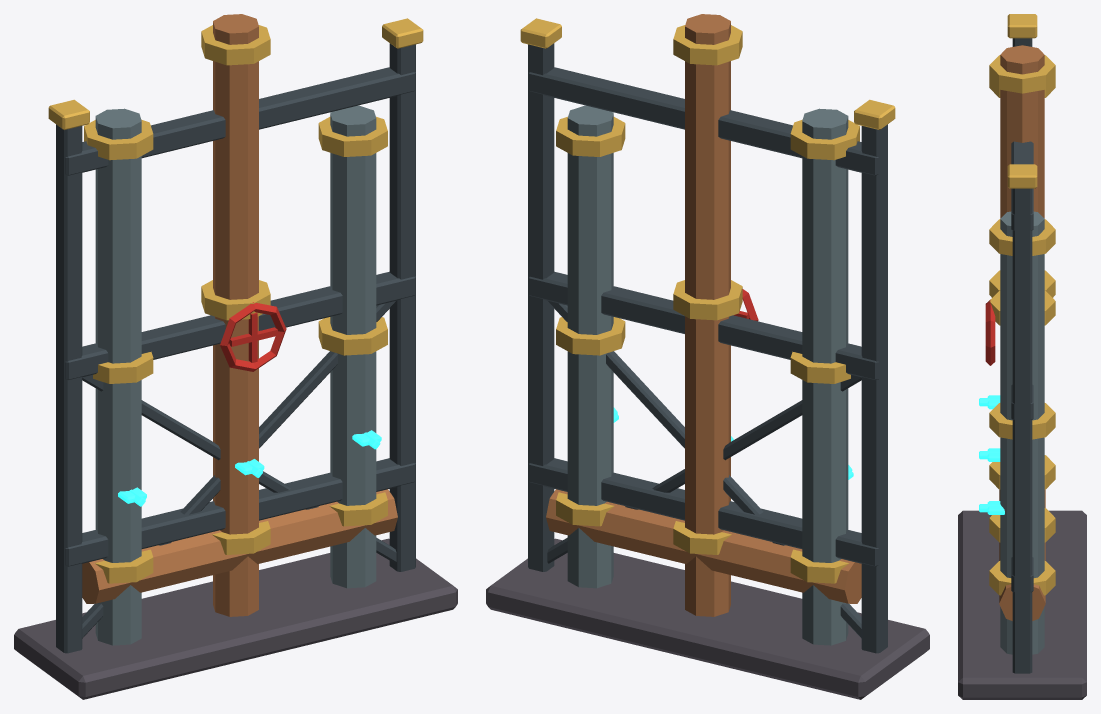
Rendered from rune_pipe_rack.glb.
The picture shows the model from 3 angles, left to right: view 1: azimuth 30°, elevation 25°; view 2: azimuth 150°, elevation 25°; view 3: azimuth 270°, elevation 25°; orthographic projection. The views are drawn at different scales.
Visible parts, largest first — view 1: Rack stone footing, Rune rack pipe.001, Rune rack pipe, Rune rack pipe.002, Rune rack upright, Rune rack upright.001, Lower manifold, Rack crossbar.002, Rack crossbar, Rack crossbar.001, Rack diagonal, Rack diagonal.001 (+12 smaller); view 2: Rack stone footing, Rune rack pipe.001, Rune rack pipe, Rune rack pipe.002, Rune rack upright, Rune rack upright.001, Lower manifold, Rack crossbar.002, Rack crossbar, Rack crossbar.001, Rack diagonal, Rack diagonal.001 (+11 smaller); view 3: Rack stone footing, Rune rack upright.001, Rune rack pipe.002, Rune rack pipe.001, Rack flange.005, Rack flange.007, Rack flange.008, Lower manifold, Rack flange.006, Rack crossbar.002, Rack upright cap.001, Rack upright cap (+5 smaller).
Part boxes in pixels (x1=…): Rack stone footing: x1=14, y1=538, x2=457, y2=699; Rune rack pipe.001: x1=213, y1=14, x2=258, y2=616; Rune rack pipe: x1=95, y1=108, x2=141, y2=645; Rune rack pipe.002: x1=330, y1=105, x2=376, y2=588; Rune rack upright: x1=56, y1=124, x2=82, y2=653; Rune rack upright.001: x1=389, y1=43, x2=415, y2=571; Lower manifold: x1=82, y1=489, x2=397, y2=603; Rack crossbar.002: x1=65, y1=67, x2=415, y2=175; Rack crossbar: x1=65, y1=458, x2=415, y2=566; Rack crossbar.001: x1=65, y1=271, x2=415, y2=379; Rack diagonal: x1=82, y1=301, x2=395, y2=638; Rack diagonal.001: x1=82, y1=375, x2=396, y2=563; Rack stone footing: x1=486, y1=538, x2=929, y2=699; Rune rack pipe.001: x1=685, y1=14, x2=730, y2=616; Rune rack pipe: x1=802, y1=108, x2=848, y2=645; Rune rack pipe.002: x1=567, y1=105, x2=613, y2=588; Rune rack upright: x1=861, y1=124, x2=887, y2=653; Rune rack upright.001: x1=528, y1=43, x2=554, y2=571; Lower manifold: x1=546, y1=489, x2=861, y2=603; Rack crossbar.002: x1=528, y1=67, x2=878, y2=175; Rack crossbar: x1=528, y1=458, x2=878, y2=566; Rack crossbar.001: x1=528, y1=271, x2=878, y2=379; Rack diagonal: x1=548, y1=301, x2=861, y2=638; Rack diagonal.001: x1=547, y1=375, x2=861, y2=563; Rack stone footing: x1=958, y1=510, x2=1086, y2=699; Rune rack upright.001: x1=1012, y1=188, x2=1032, y2=673; Rune rack pipe.002: x1=1000, y1=211, x2=1044, y2=654; Rune rack pipe.001: x1=1000, y1=45, x2=1044, y2=218; Rack flange.005: x1=989, y1=55, x2=1055, y2=93; Rack flange.007: x1=989, y1=403, x2=1055, y2=439; Rack flange.008: x1=989, y1=219, x2=1055, y2=255; Lower manifold: x1=999, y1=489, x2=1045, y2=620; Rack flange.006: x1=989, y1=561, x2=1055, y2=595; Rack crossbar.002: x1=1011, y1=141, x2=1033, y2=230; Rack upright cap.001: x1=1007, y1=164, x2=1037, y2=188; Rack upright cap: x1=1007, y1=14, x2=1037, y2=38.
Size of the model in its own units: 3.3 by 5.05 by 1.05.
